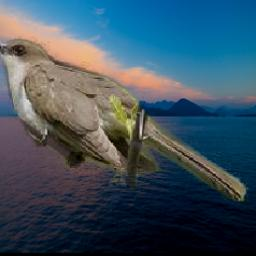Cuckoo: (0, 37, 248, 202)
